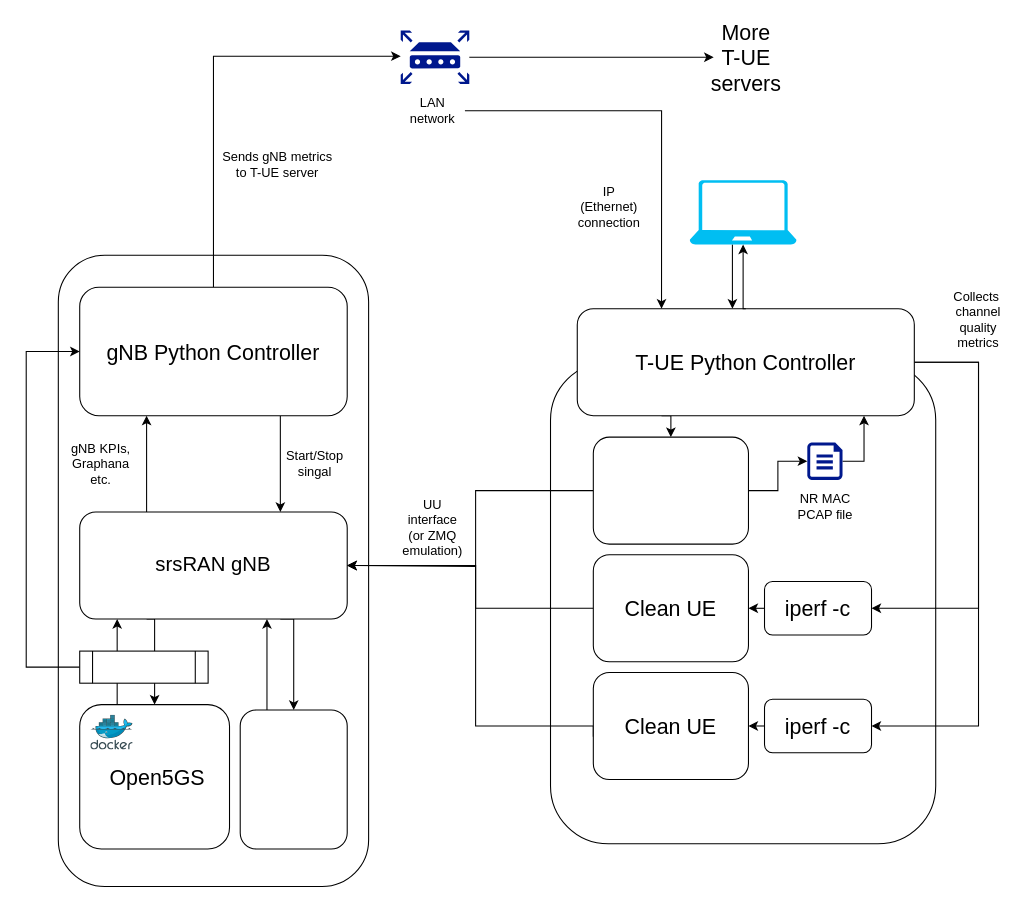
Image size: 1029x905. Some labels were removed from this diagram. Each missing label, with the centre of its shape:
"GUI" goes at point 742,212.
"iperf -s" goes at point 293,779.
"scapy PCAP sniffer" goes at point 143,666.
"Tester UE" goes at point 670,490.
